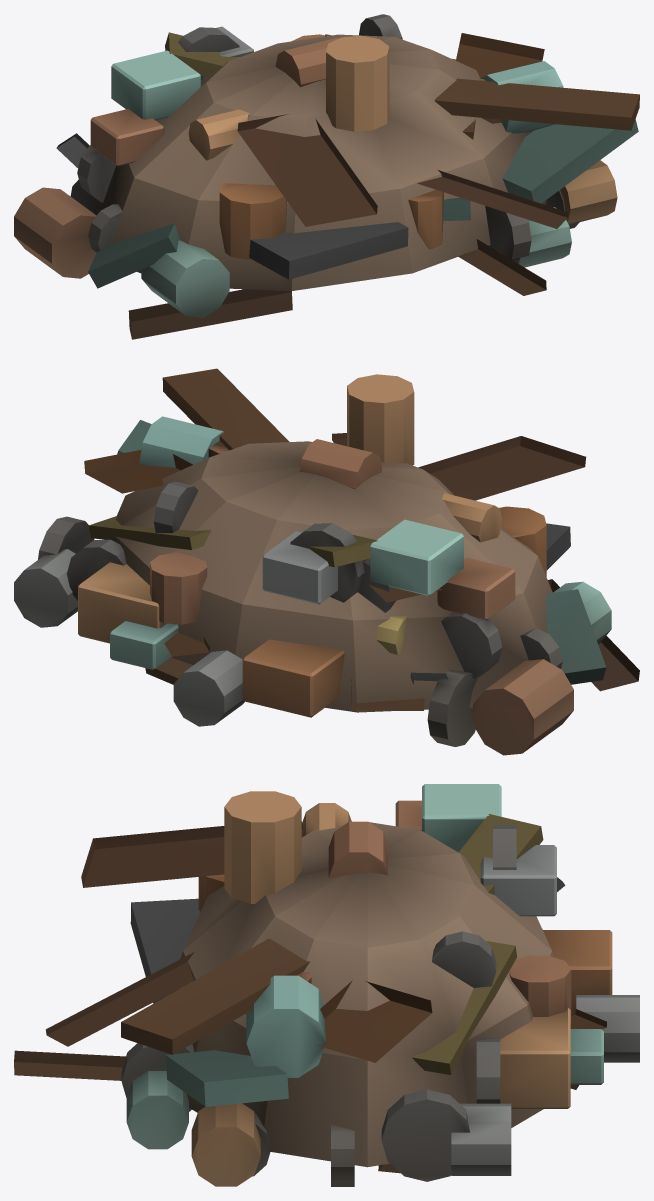
Rendered from junk_a.glb.
The picture shows the model from 3 angles, top to bottom: view 1: azimuth 30°, elevation 25°; view 2: azimuth 150°, elevation 25°; view 3: azimuth 270°, elevation 25°; orthographic projection. The views are drawn at different scales.
Visible parts, largest first — view 1: junk_a; view 2: junk_a; view 3: junk_a.
Boxes of the visible parts, x1,y1,x2,y2 form: junk_a: (14, 14, 639, 339); junk_a: (14, 368, 639, 755); junk_a: (14, 784, 639, 1186).
Size of the model in its own units: 7.26 by 3.13 by 6.61.
